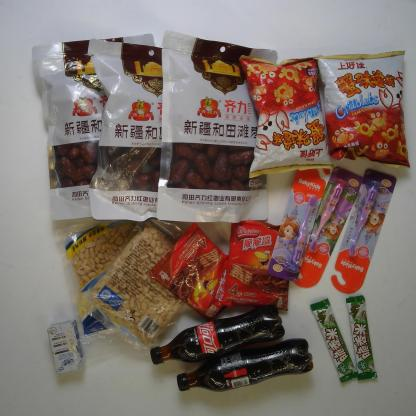Chocolate: (310, 297, 359, 382), (347, 295, 377, 380)
Dessert: (148, 223, 234, 317), (224, 218, 290, 312)
Dried Food: (156, 27, 280, 226), (30, 33, 158, 222), (86, 38, 169, 221)
Dried Fruit: (81, 218, 188, 346), (57, 207, 147, 346)
Drink: (150, 305, 284, 366), (176, 338, 314, 394)
Milk: (46, 320, 83, 373)
Personal Hygiene: (294, 166, 366, 290), (331, 166, 397, 293), (268, 168, 329, 280)
Puffed Food: (234, 52, 336, 181), (318, 49, 413, 170)
